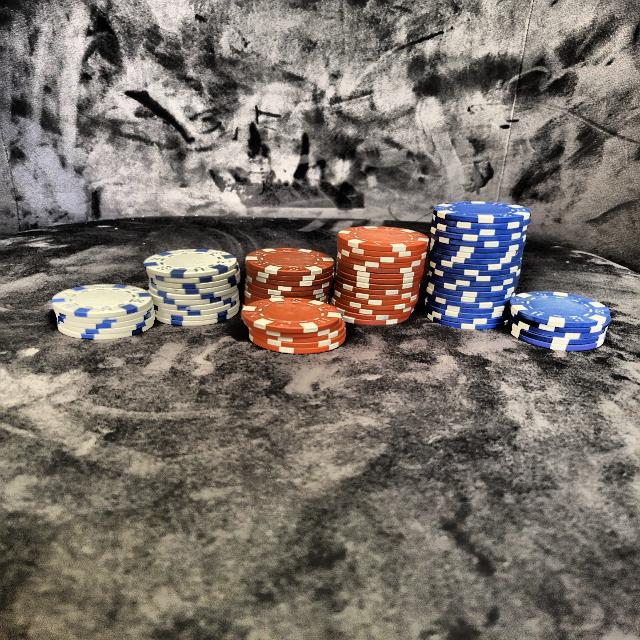Chip: (427, 194, 538, 339), (237, 236, 348, 362), (132, 233, 251, 335), (336, 215, 436, 334), (47, 271, 169, 351), (503, 278, 611, 356)
